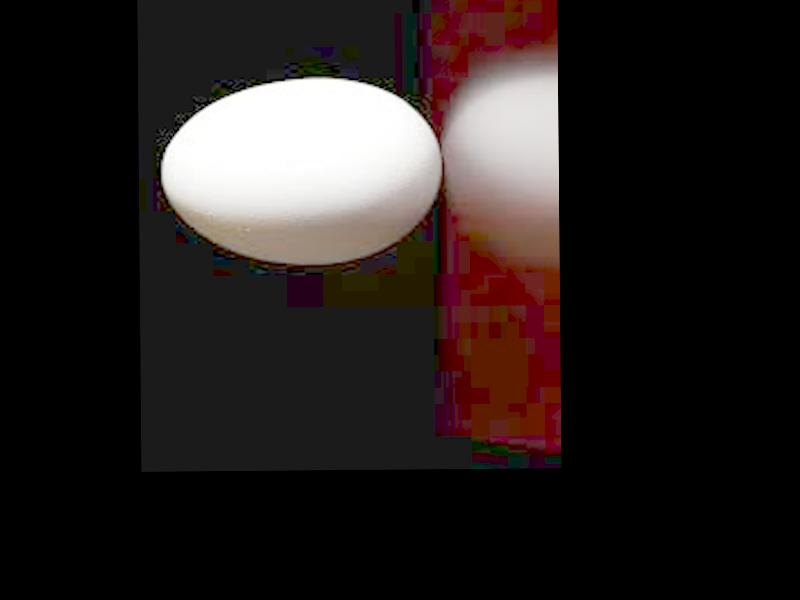Eggs: (161, 77, 442, 263)
